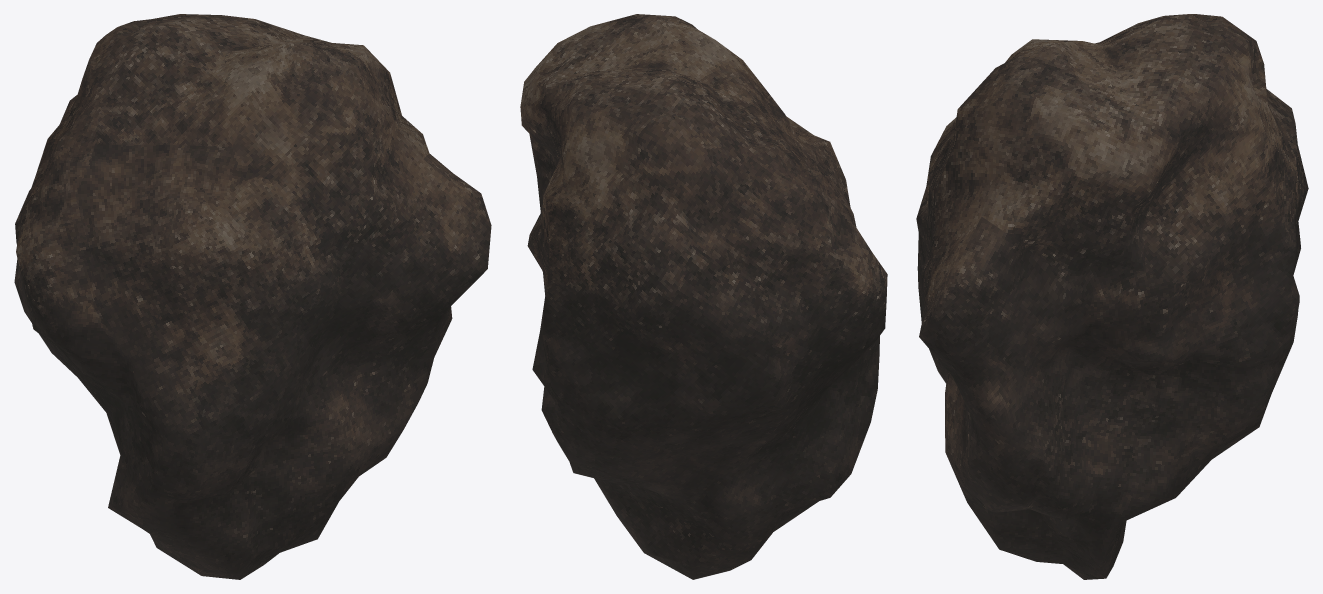
File: SM_RP2_Rock_8m_1.001.glb
The picture shows the model from 3 angles, left to right: view 1: azimuth 30°, elevation 25°; view 2: azimuth 150°, elevation 25°; view 3: azimuth 270°, elevation 25°; orthographic projection. The views are drawn at different scales.
Parts seen in each view (by area): view 1: SM_RP2_Rock_8m_1.001; view 2: SM_RP2_Rock_8m_1.001; view 3: SM_RP2_Rock_8m_1.001.
Boxes of the visible parts, x1,y1,x2,y2 form: SM_RP2_Rock_8m_1.001: (14,14,491,579); SM_RP2_Rock_8m_1.001: (520,14,887,579); SM_RP2_Rock_8m_1.001: (916,14,1308,579).
Bounding box in the file's own units: 10.05 × 13.03 × 8.31.
Materials: 1 (1 with a texture image).
